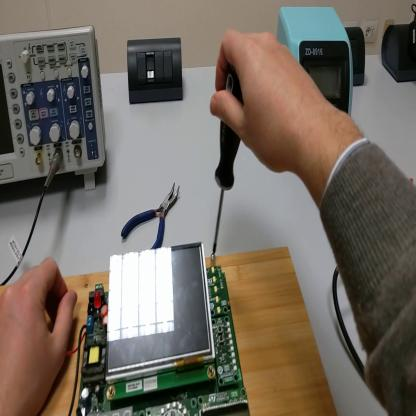hand: (212, 30, 323, 180), (1, 260, 79, 416)
low voltage board: (64, 243, 251, 414)
oscilloscope: (2, 25, 109, 194)
pliers: (120, 183, 182, 252)
screwdriver-: (212, 63, 245, 255)
socket: (382, 18, 416, 83), (345, 26, 366, 88)
welder station: (276, 6, 356, 123)
working area: (2, 246, 339, 416)
